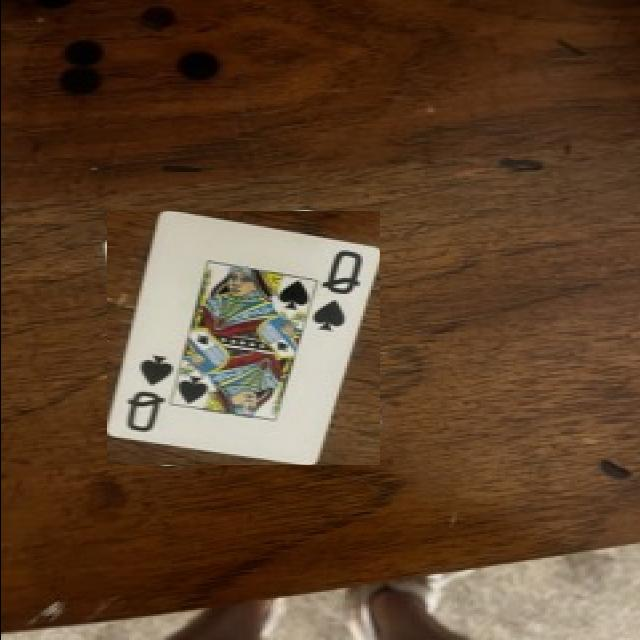Queen of spades: (107, 211, 379, 465)
